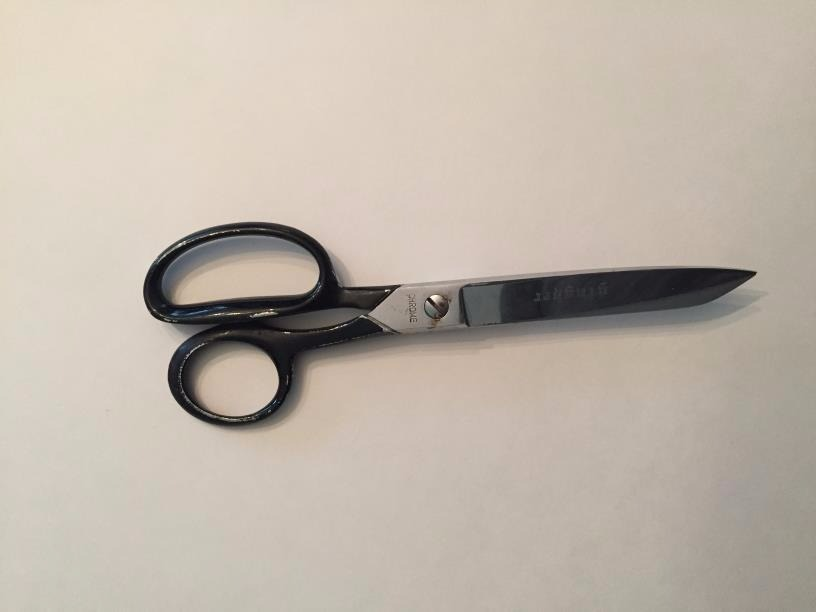scissor: (122, 181, 790, 462)
